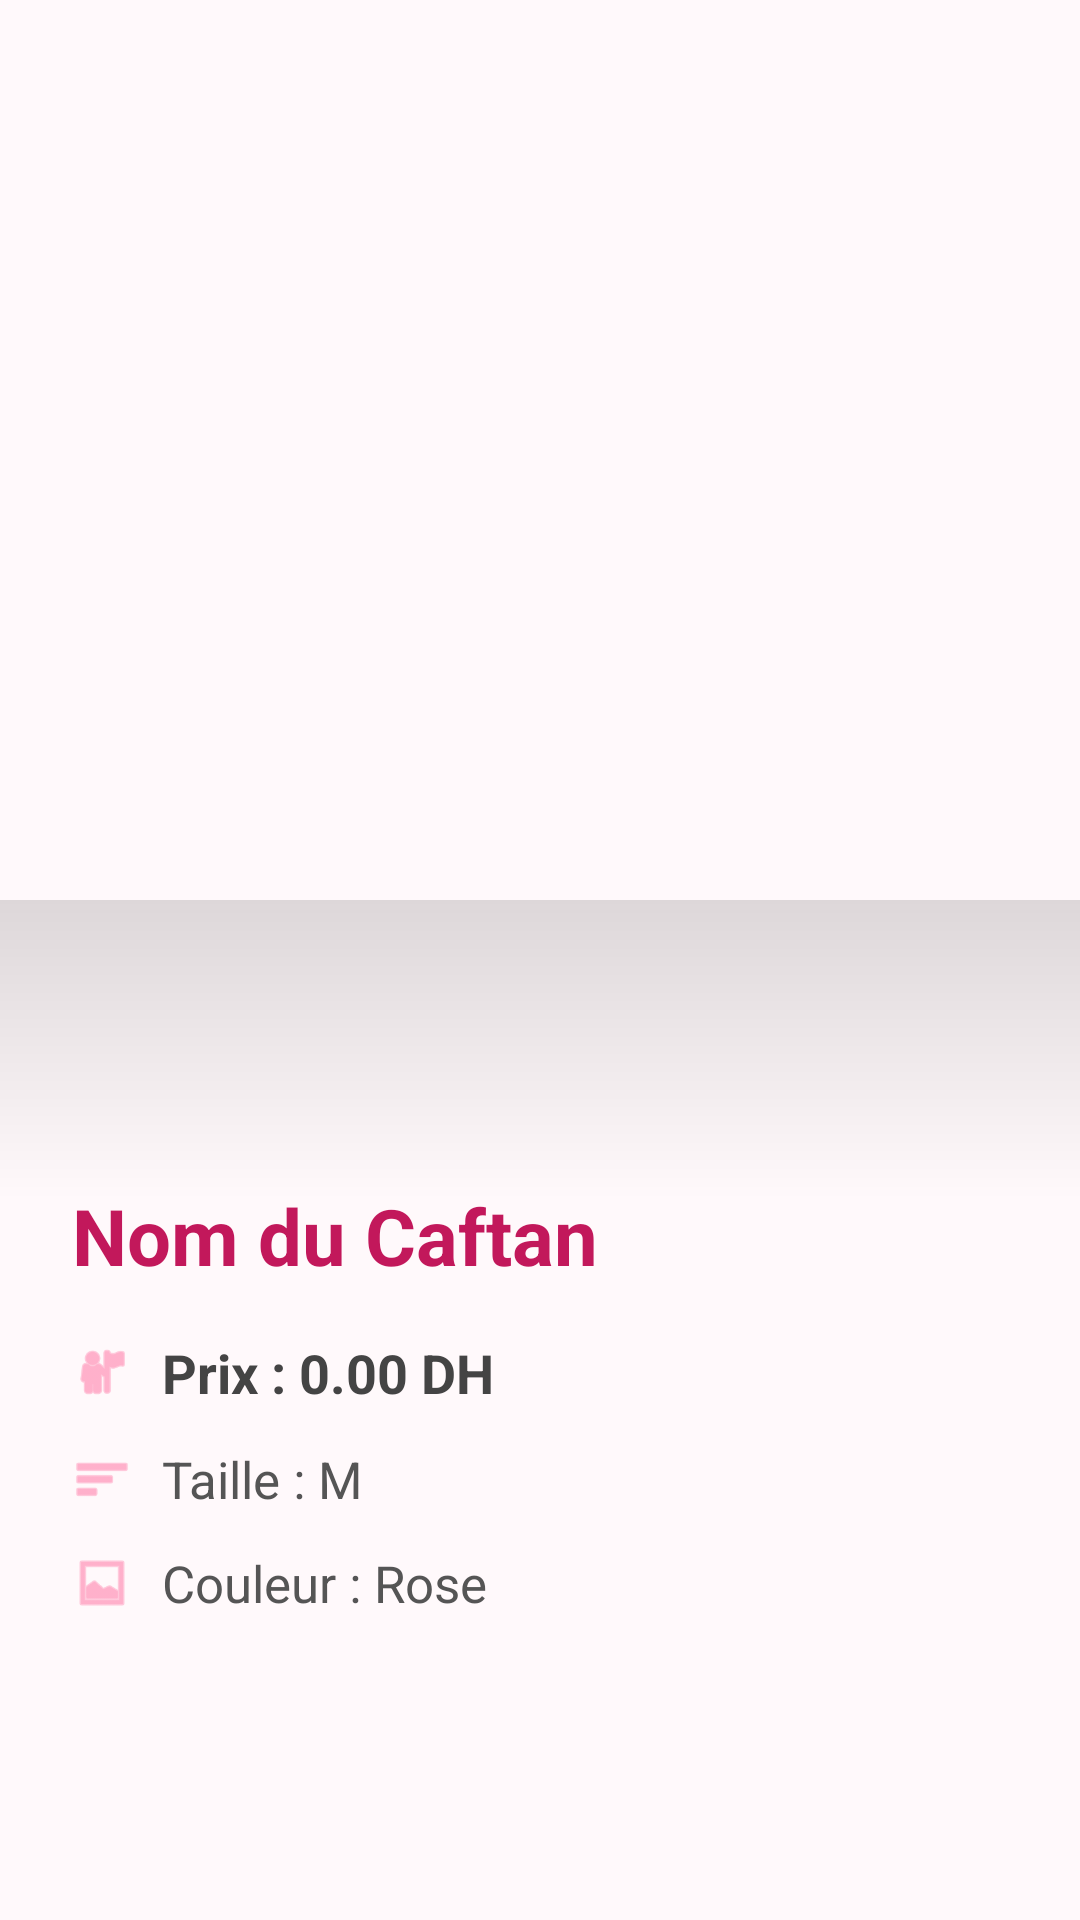

Screen size 1080×1920. Icon name, then its box in pixels as (x1, y1, x2, y2):
gallery: (80, 1560, 124, 1606)
myplaces: (80, 1350, 125, 1394)
sort by size: (76, 1463, 128, 1496)
